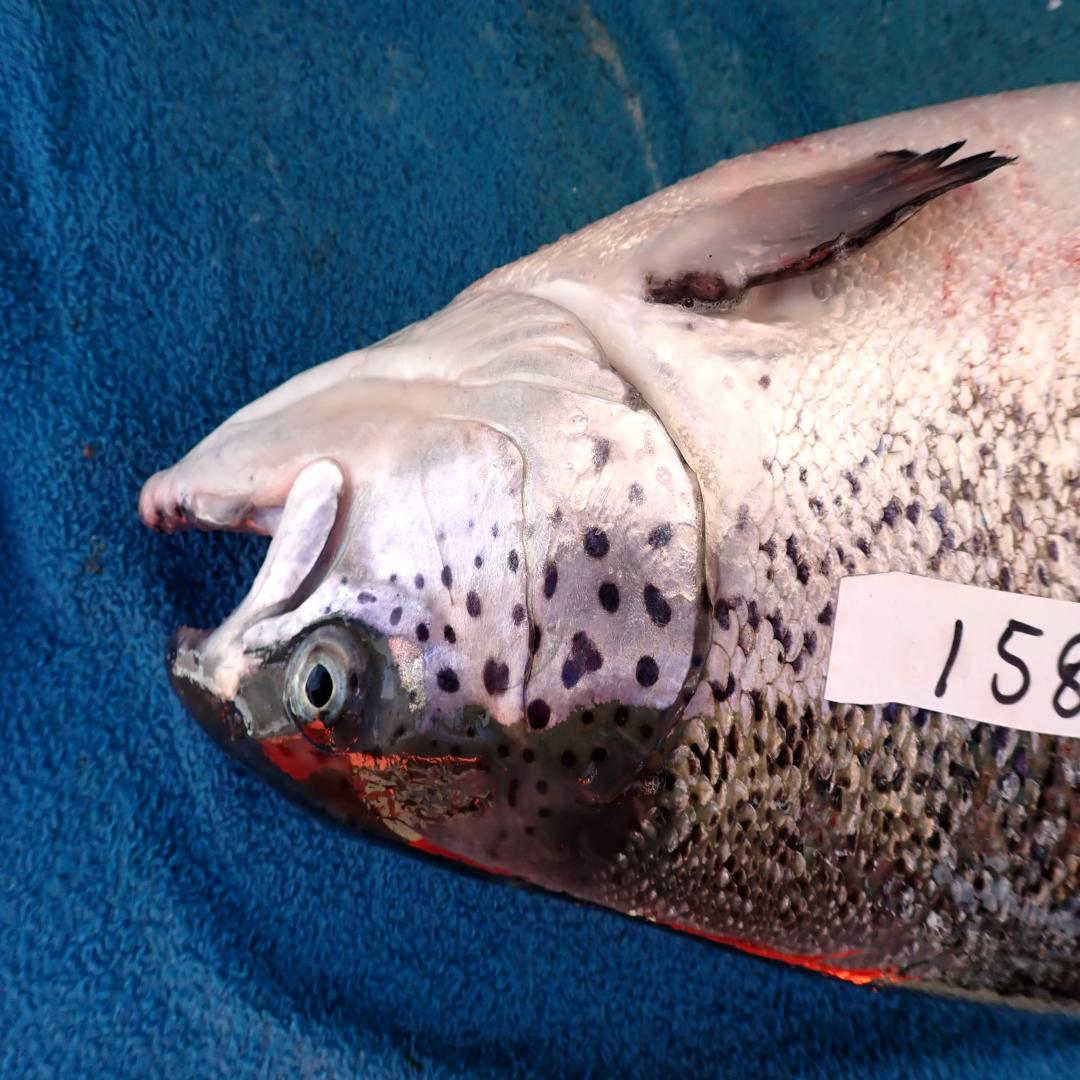roi: (343, 283, 712, 732)
